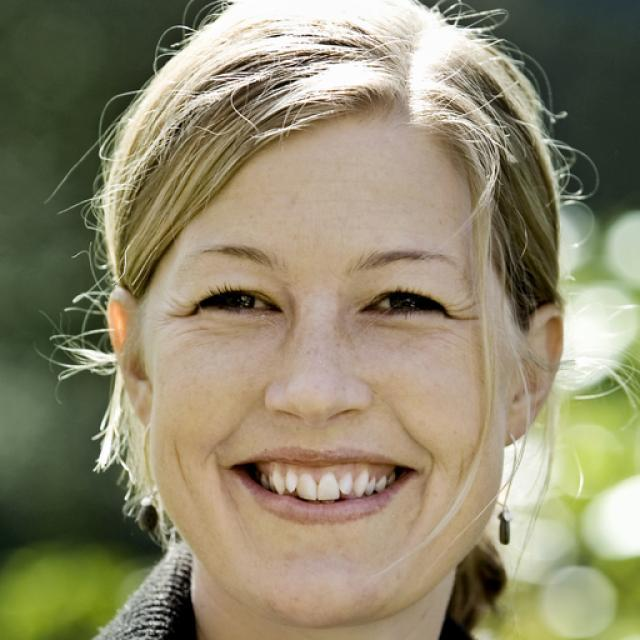happy: (145, 126, 504, 626)
